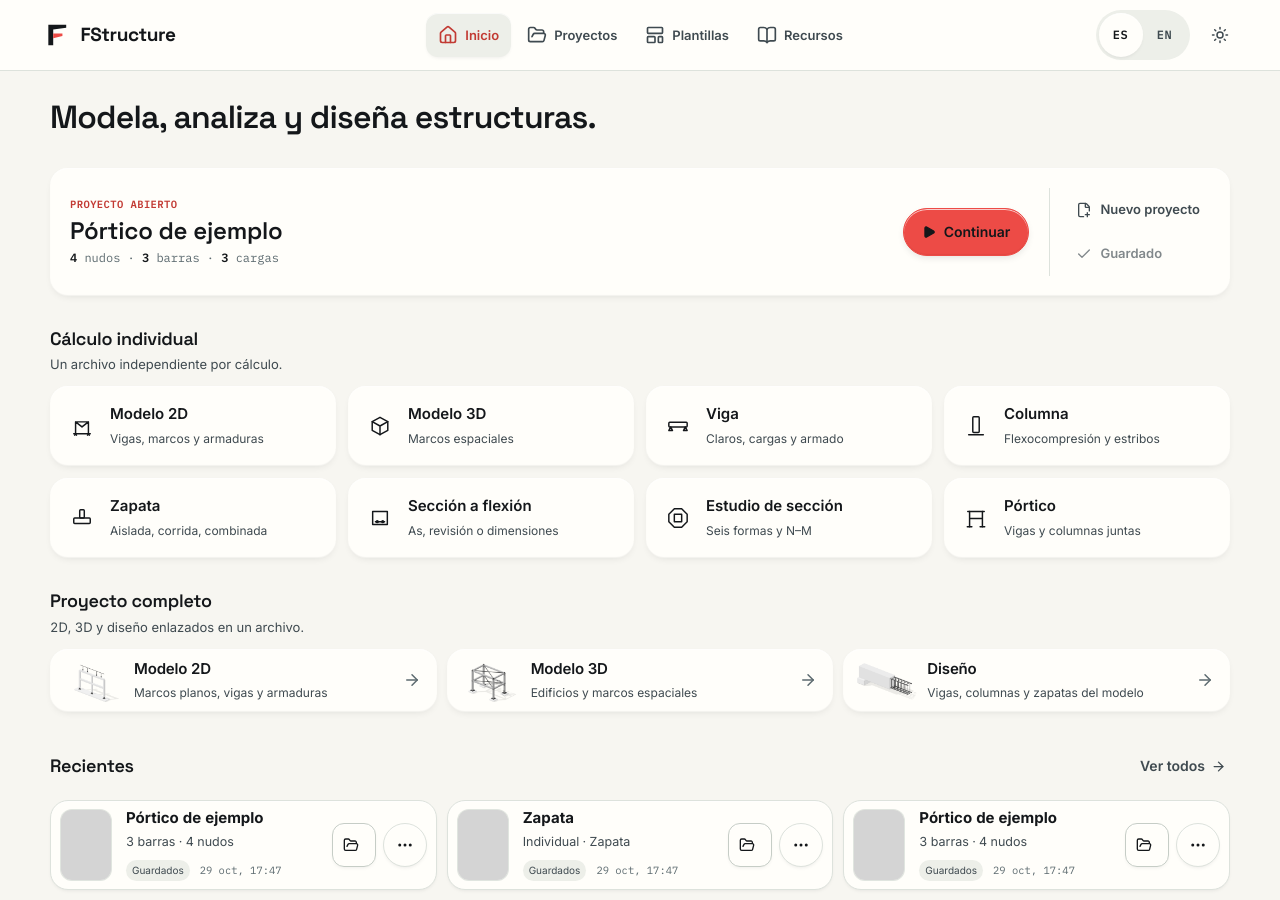
standalone FStructure › una pieza individual se convierte en proyecto completo: copia abierta con modos y original intacto
Click the button "Zapata Aislada, corrida, combinada".
click(135, 506)  # box [50,478,336,558]
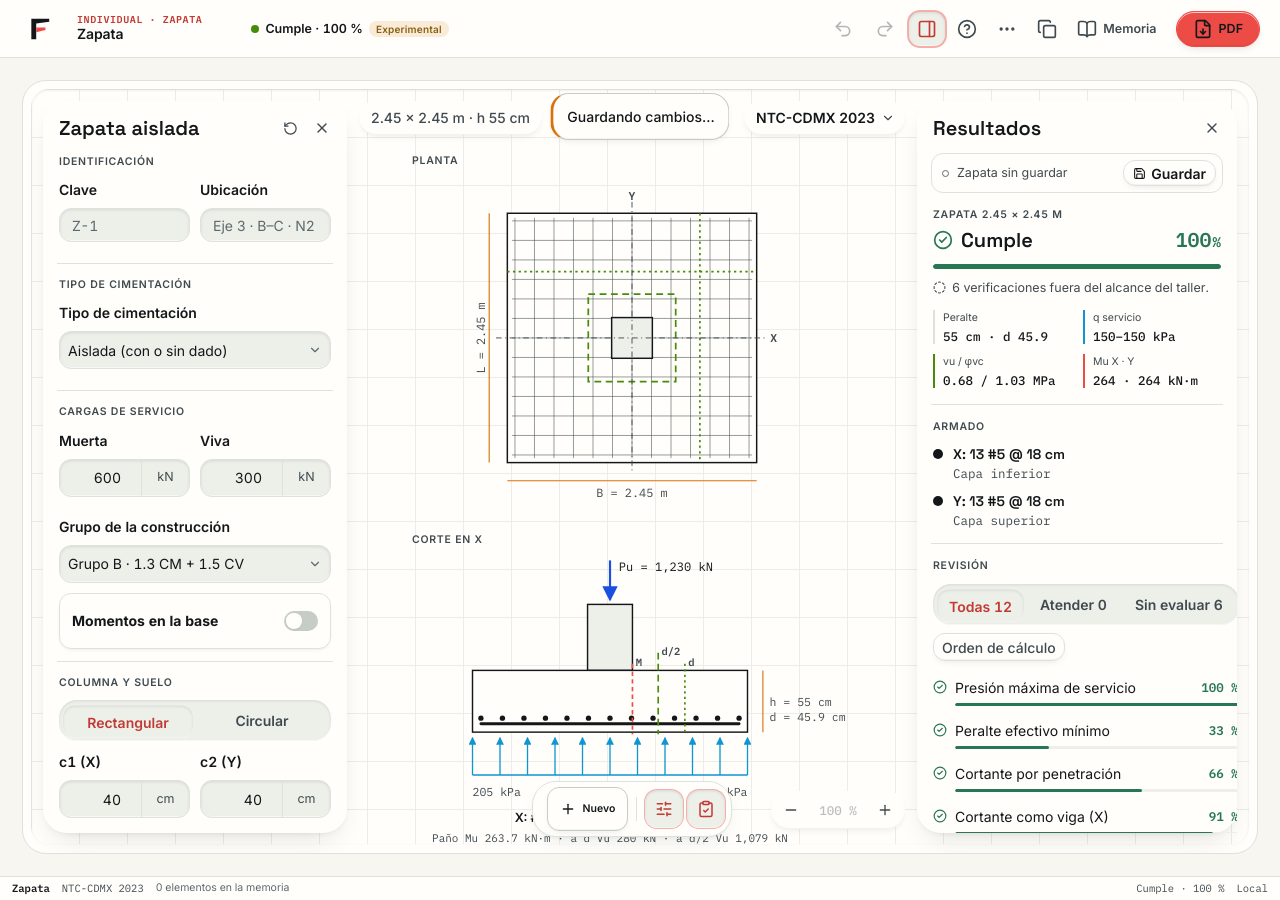
Expected: the button with aria-label "Nuevo diseño" is shown, [547,787,628,831]
Click the button with class "workspace-utilities__trigger".
click(1007, 28)  # box [988,10,1026,46]
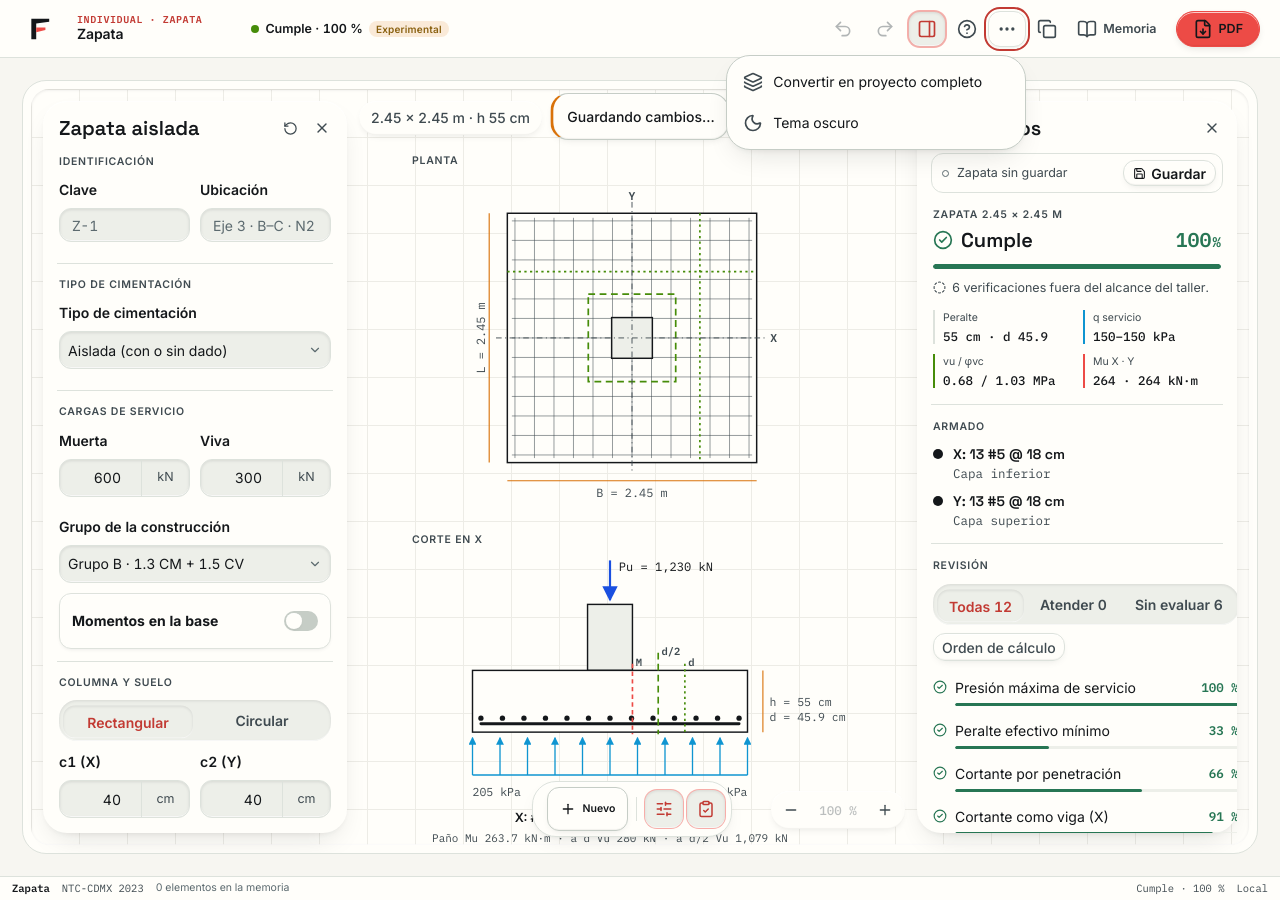
Click the menu item "Convertir en proyecto completo".
click(876, 82)  # box [733,62,1019,102]
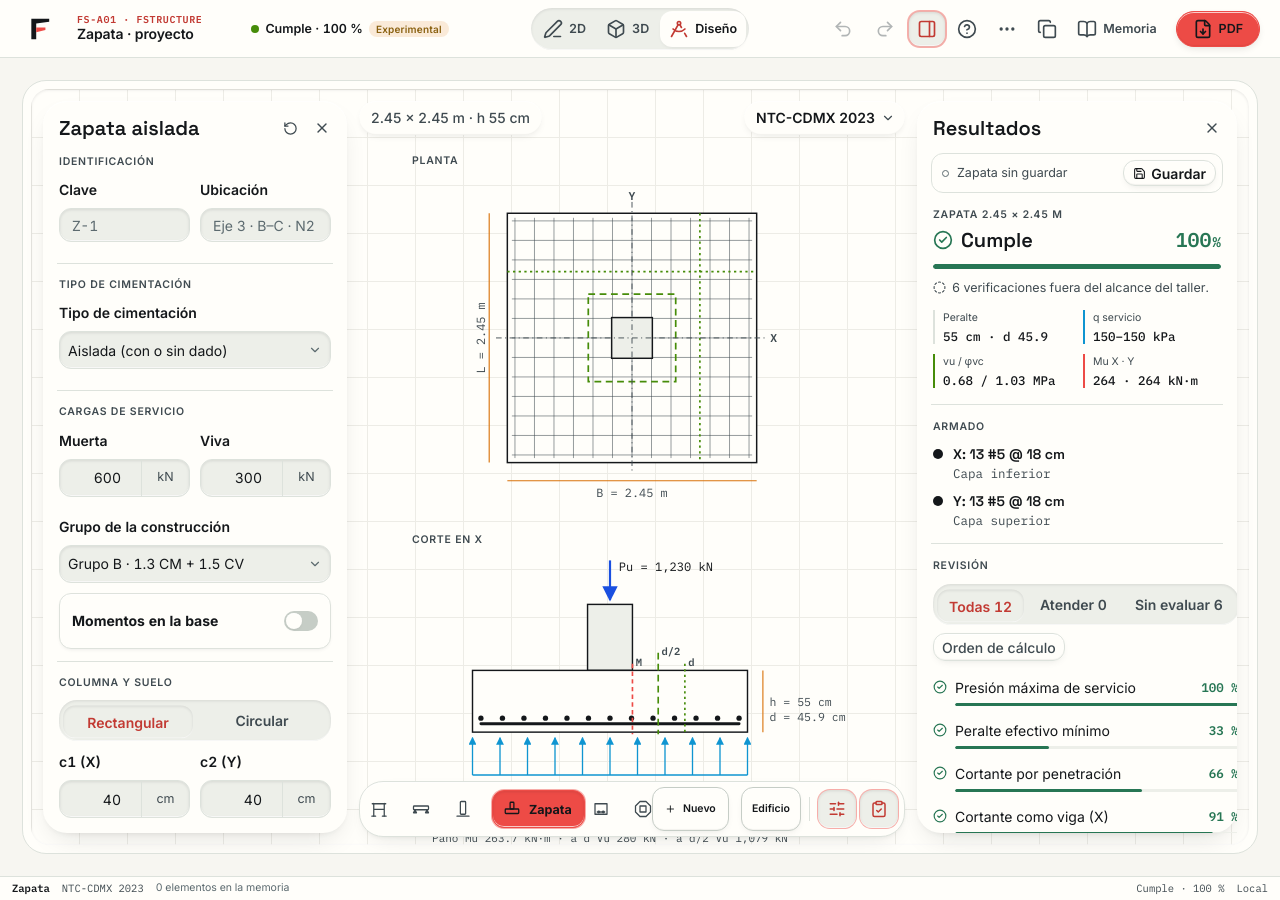
Result: the element named "Modo de la mesa" is shown at [531,8,749,50]
Result: the button "Individual · Zapata" is gone
